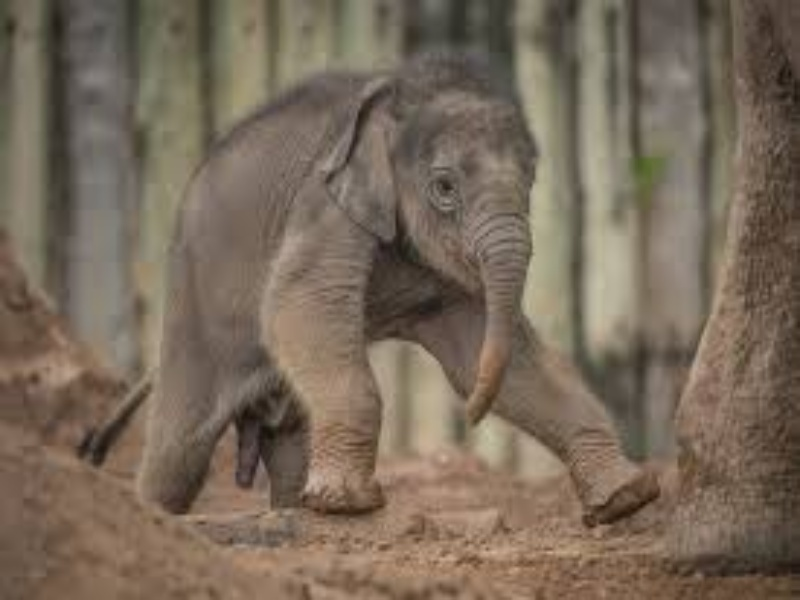elephant: (85, 56, 669, 510)
